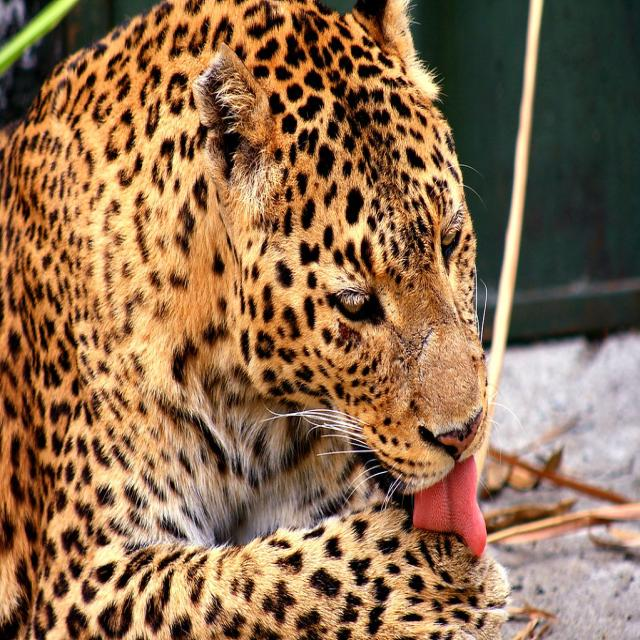Leopard: (1, 2, 511, 640)
